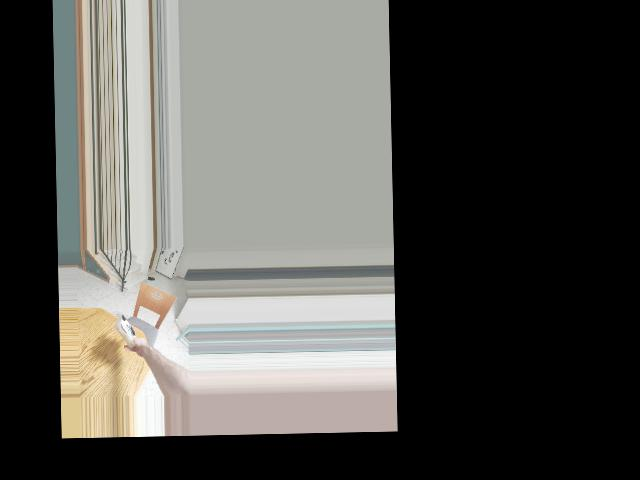cheese: (114, 313, 138, 349)
